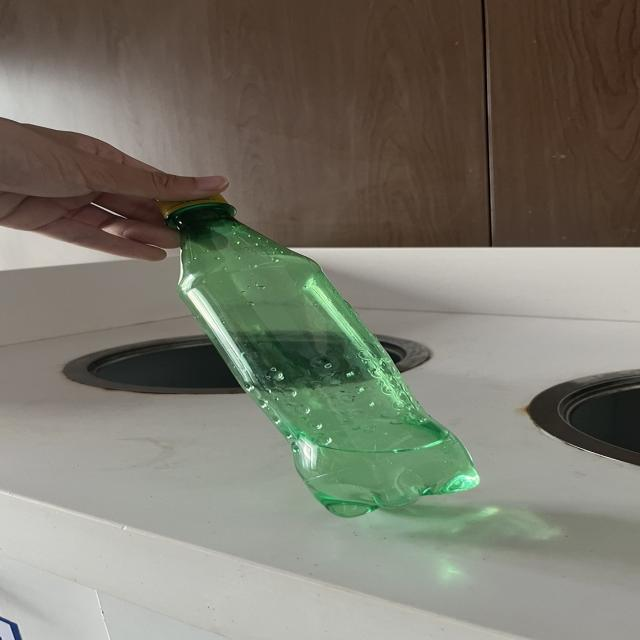low: (159, 195, 478, 517)
